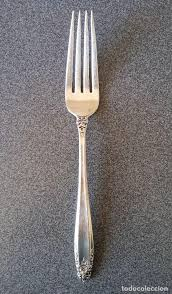fork: (61, 6, 105, 285)
